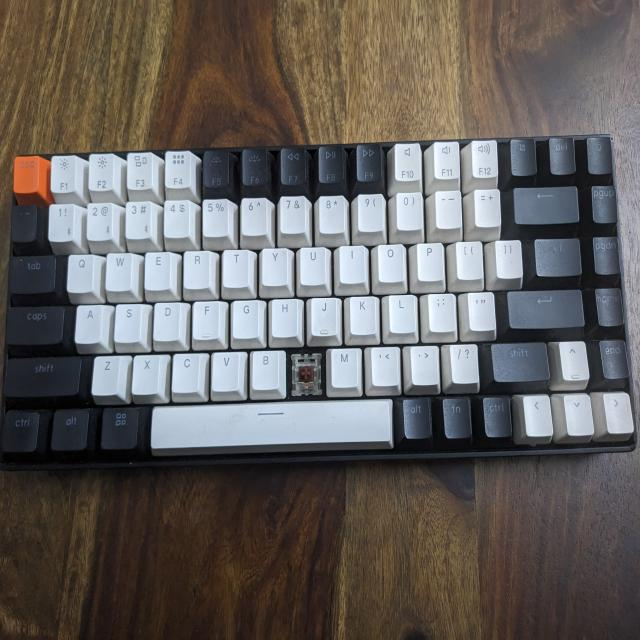C: (289, 352, 324, 401)
